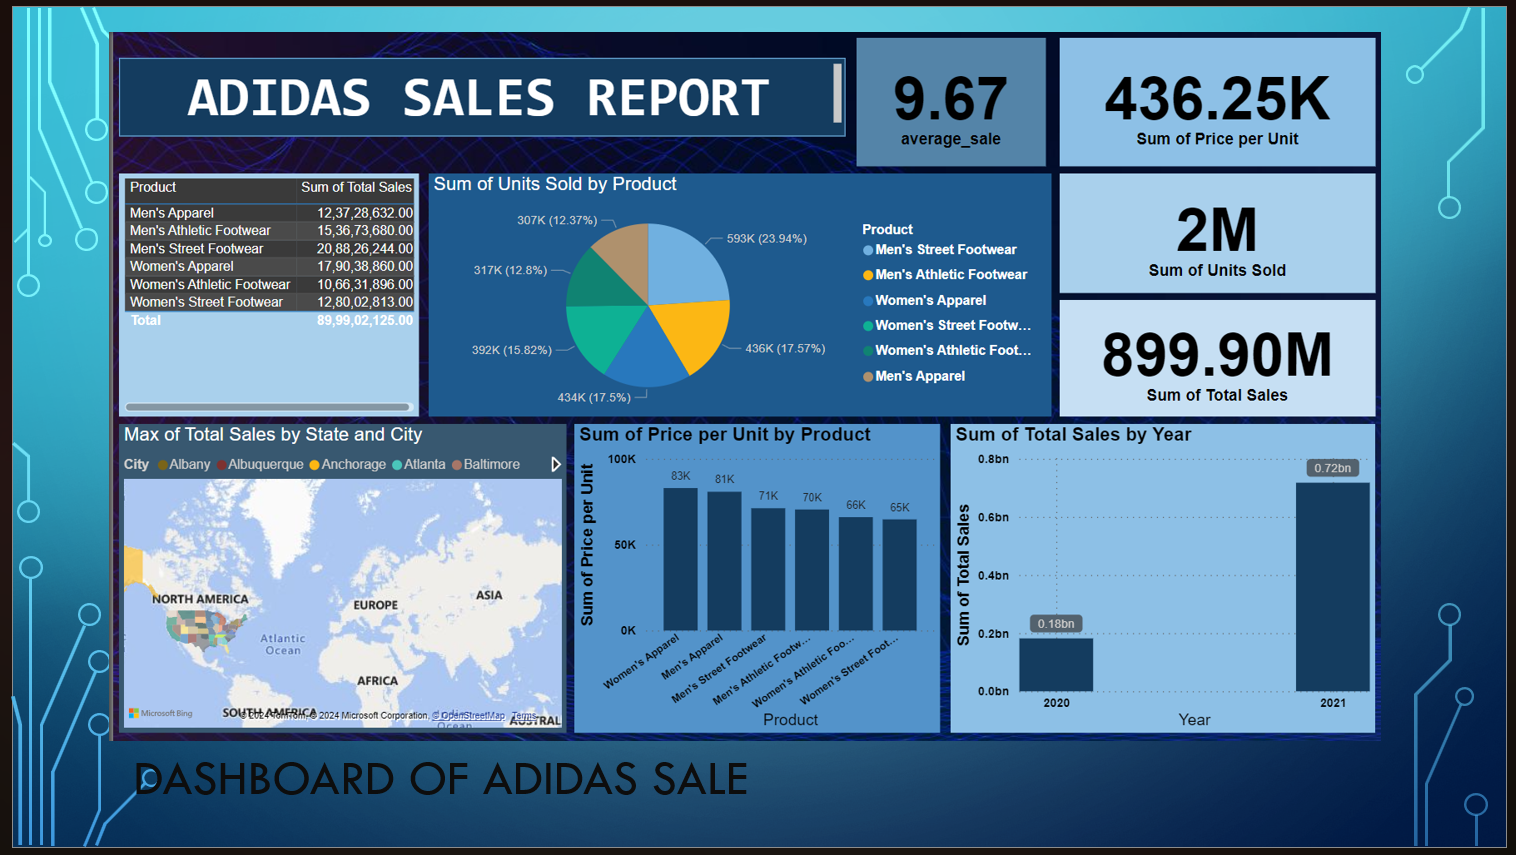

This screenshot's page, from the dashboard's own definition file:
{"tool":"powerbi","page":{"name":"adidas_sales report","canvas":[1280,720],"ordinal":1},"visuals":[{"type":"tableEx","fields":{"Values":["Table 1 (Data Sales Adidas).Product","Sum(Table 1 (Data Sales Adidas).Total Sales)"]},"box":[6.2,142.8,301.5,243.8],"z":0},{"type":"filledMap","fields":{"Category":["Table 1 (Data Sales Adidas).State"],"Series":["Table 1 (Data Sales Adidas).City"]},"box":[6.2,394.6,448.7,310.3],"z":1000},{"type":"pieChart","fields":{"Category":["Table 1 (Data Sales Adidas).Product"],"Y":["Sum(Table 1 (Data Sales Adidas).Units Sold)"]},"box":[316.6,142.8,625.1,243.8],"z":2000},{"type":"columnChart","fields":{"Y":["Sum(Table 1 (Data Sales Adidas).Price per Unit)"],"Category":["Table 1 (Data Sales Adidas).Product"]},"box":[462.9,394.6,367.1,310.3],"z":3000},{"type":"lineStackedColumnComboChart","fields":{"Category":["Table 1 (Data Sales Adidas).Invoice Date.Variation.Date Hierarchy.Year","Table 1 (Data Sales Adidas).Invoice Date.Variation.Date Hierarchy.Quarter","Table 1 (Data Sales Adidas).Invoice Date.Variation.Date Hierarchy.Month","Table 1 (Data Sales Adidas).Invoice Date.Variation.Date Hierarchy.Day"],"Y":["Sum(Table 1 (Data Sales Adidas).Total Sales)"]},"box":[840.6,394.6,425.6,310.3],"z":4000},{"type":"card","fields":{"Values":["Sum(Table 1 (Data Sales Adidas).Total Sales)"]},"box":[949.7,269.6,316.6,117],"z":5000},{"type":"card","fields":{"Values":["Sum(Table 1 (Data Sales Adidas).Units Sold)"]},"box":[949.7,142.8,316.6,119.7],"z":6000},{"type":"card","fields":{"Values":["Sum(Table 1 (Data Sales Adidas).Price per Unit)"]},"box":[949.7,7.1,316.6,129.5],"z":7000},{"type":"card","fields":{"Values":["Table 1 (Data Sales Adidas).average_sale"]},"box":[745.7,7.1,189.8,129.5],"z":8000},{"type":"textbox","box":[6.2,26.6,728.9,78.9],"z":9000}]}

Visuals, with their boxes in screenshot pixels (x1, y1, x2, y2), scaled from the page's 1280x720 canvas onto the 1516x855 screenshot:
tableEx - Table 1 (Data Sales Adidas).Product x Sum(Table 1 (Data Sales Adidas).Total Sales): bbox=(7, 170, 364, 459)
filledMap - Table 1 (Data Sales Adidas).State x Table 1 (Data Sales Adidas).City: bbox=(7, 469, 539, 837)
pieChart - Table 1 (Data Sales Adidas).Product x Sum(Table 1 (Data Sales Adidas).Units Sold): bbox=(375, 170, 1115, 459)
columnChart - Sum(Table 1 (Data Sales Adidas).Price per Unit) x Table 1 (Data Sales Adidas).Product: bbox=(548, 469, 983, 837)
lineStackedColumnComboChart - Table 1 (Data Sales Adidas).Invoice Date.Variation.Date Hierarchy.Year x Table 1 (Data Sales Adidas).Invoice Date.Variation.Date Hierarchy.Quarter: bbox=(996, 469, 1500, 837)
card - Sum(Table 1 (Data Sales Adidas).Total Sales): bbox=(1125, 320, 1500, 459)
card - Sum(Table 1 (Data Sales Adidas).Units Sold): bbox=(1125, 170, 1500, 312)
card - Sum(Table 1 (Data Sales Adidas).Price per Unit): bbox=(1125, 8, 1500, 162)
card - Table 1 (Data Sales Adidas).average_sale: bbox=(883, 8, 1108, 162)
textbox: bbox=(7, 32, 871, 125)
